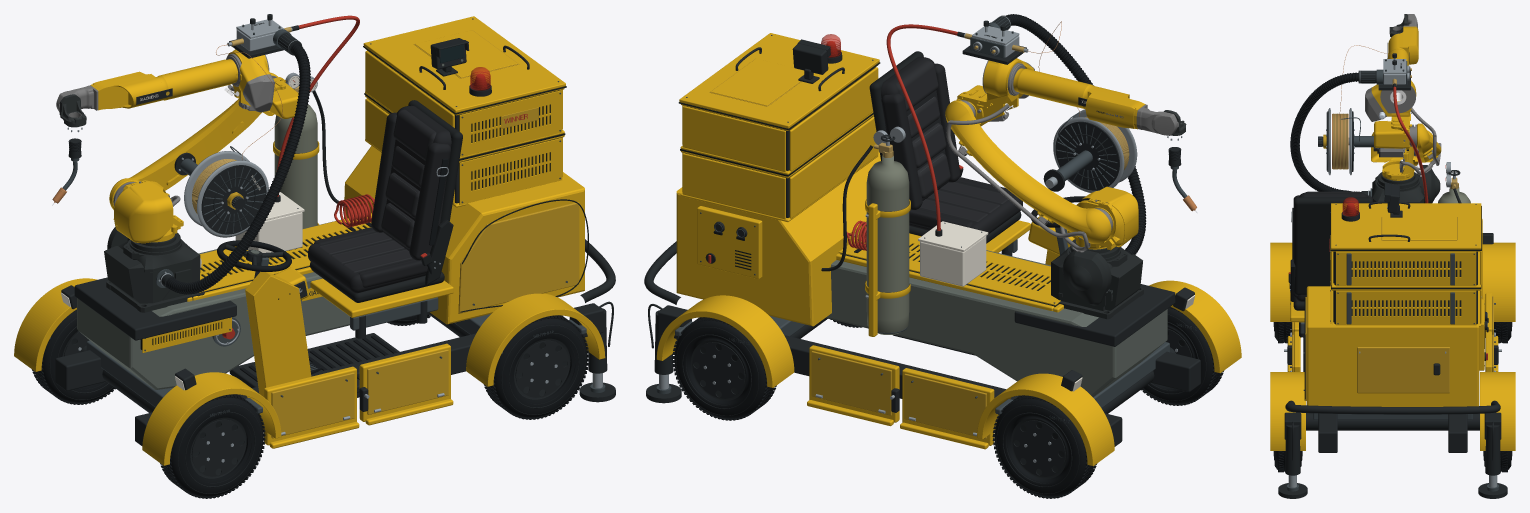
File: xiaomeng-h.glb
3 views of the same model, side by side, from view 1: azimuth 30°, elevation 25°; view 2: azimuth 150°, elevation 25°; view 3: azimuth 270°, elevation 25° (orthographic). The views are drawn at different scales.
Visible parts, largest first — view 1: Mesh_0-mesh (×6), slotted-sheet (×4), yellow-mudguard (×3), rounded-tyre-carcass (×3), side-service-door, grey-structural-spine, rear-lower-cabinet, recessed-service-door (×2), equipment-top-cover, folded-steering-support, ventilated-rim-plate (×2), segmented-backrest-cushion (×4) (+31 smaller); view 2: Mesh_0-mesh (×5), grey-structural-spine, rear-lower-cabinet, yellow-mudguard (×3), rounded-tyre-carcass (×3), cabinet-inner-side (×2), recessed-service-door (×2), cabinet-front-face (×2), equipment-top-cover, formed-steel-cylinder, ventilated-rim-plate (×2), utility-enclosure (+29 smaller); view 3: rear-lower-cabinet, slotted-sheet (×2), yellow-mudguard (×4), Mesh_0-mesh (×5), equipment-top-cover, rear-access-panel, continuous-back-shell, equipment-chassis-core (×2), rear-protection-bar, flush-inspection-cover, axle-tube, longitudinal-box-frame (×2) (+20 smaller).
Part boxes in pixels (x1,y1,x2,y2): Mesh_0-mesh (×6): (59, 53, 278, 312); slotted-sheet (×4): (142, 90, 562, 352); yellow-mudguard (×3): (14, 278, 605, 465); rounded-tyre-carcass (×3): (34, 310, 587, 496); side-service-door: (458, 202, 579, 313); grey-structural-spine: (77, 220, 349, 389); rear-lower-cabinet: (344, 146, 584, 324); recessed-service-door (×2): (271, 349, 448, 438); equipment-top-cover: (363, 16, 565, 112); folded-steering-support: (245, 271, 311, 396); ventilated-rim-plate (×2): (191, 340, 568, 476); segmented-backrest-cushion (×4): (381, 109, 436, 248); Mesh_0-mesh (×5): (945, 60, 1145, 319); grey-structural-spine: (825, 250, 1167, 397); rear-lower-cabinet: (676, 149, 880, 326); yellow-mudguard (×3): (656, 280, 1241, 466); rounded-tyre-carcass (×3): (674, 307, 1221, 496); cabinet-inner-side (×2): (682, 106, 785, 219); recessed-service-door (×2): (811, 351, 986, 438); cabinet-front-face (×2): (789, 67, 878, 218); equipment-top-cover: (679, 33, 879, 128); formed-steel-cylinder: (866, 155, 909, 334); ventilated-rim-plate (×2): (692, 342, 1065, 476); utility-enclosure: (697, 206, 762, 279); rear-lower-cabinet: (1306, 286, 1479, 406); slotted-sheet (×2): (1336, 251, 1476, 325); yellow-mudguard (×4): (1270, 242, 1515, 450); Mesh_0-mesh (×5): (1365, 26, 1441, 203); equipment-top-cover: (1331, 203, 1481, 249); rear-access-panel: (1357, 347, 1449, 393); continuous-back-shell: (1293, 197, 1372, 294); equipment-chassis-core (×2): (1334, 251, 1477, 324); rear-protection-bar: (1285, 400, 1500, 414); flush-inspection-cover: (1382, 217, 1457, 240); axle-tube: (1306, 413, 1479, 430); longitudinal-box-frame (×2): (1318, 413, 1467, 452).
Size of what is drawn, in the model's own units: 2.76 by 2.06 by 1.4.
